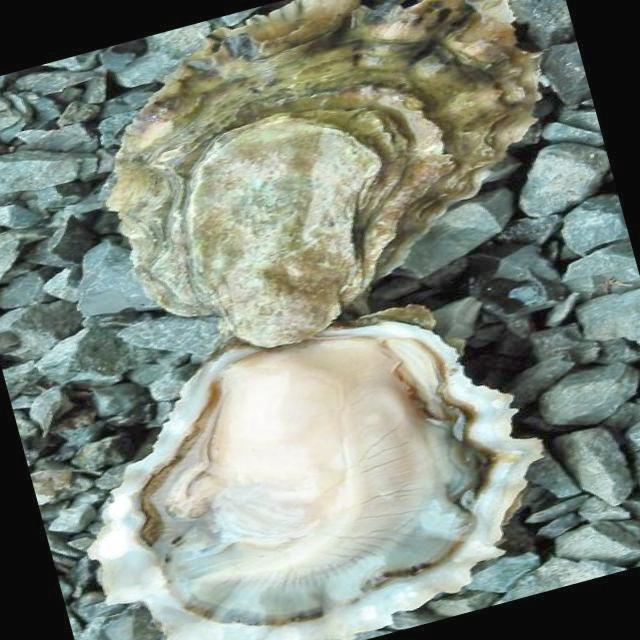Oyster-Closed: (106, 0, 546, 351)
Oyster-Open: (98, 321, 542, 629)
